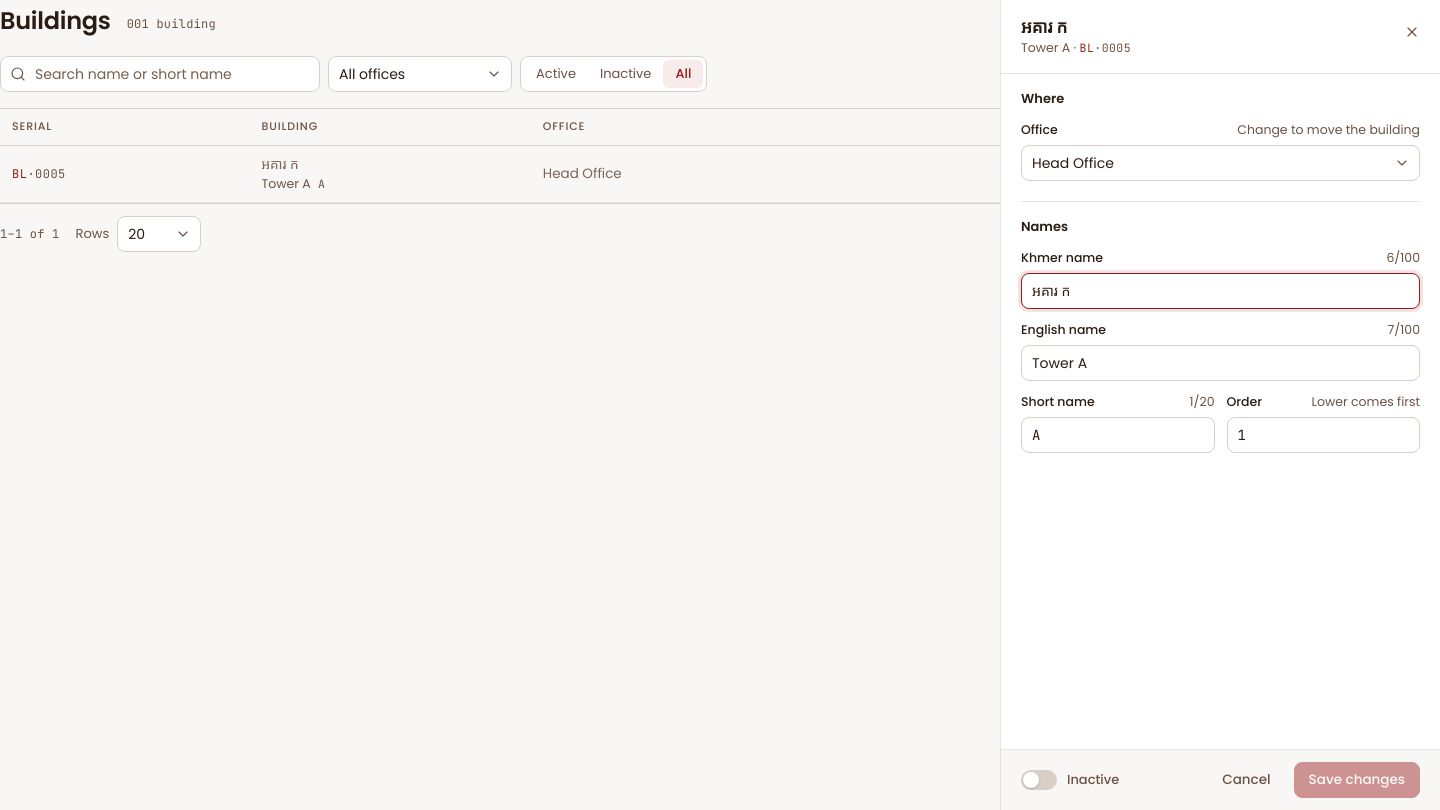
Test case: BuildingsView › shows why a building cannot be turned on and keeps it inactive
This screenshot has width=1440, height=810.
Step 1. Click the switch named "Active" → (1039, 780), box [1021,770,1057,790]
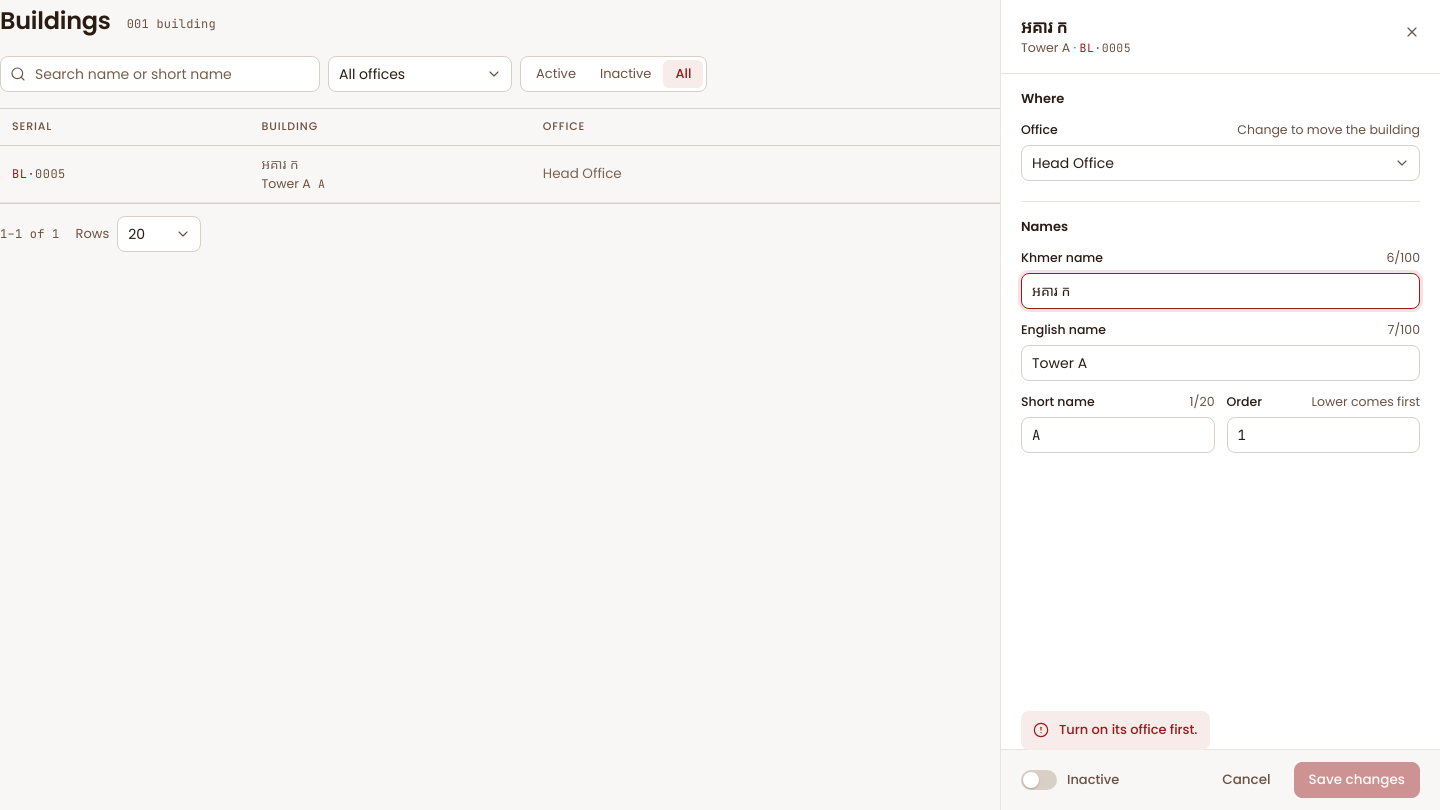
Expected: the dialog is shown, [1000,0,1439,809]
Now the message "Turn on its office first." is shown, box [1021,711,1210,750]
